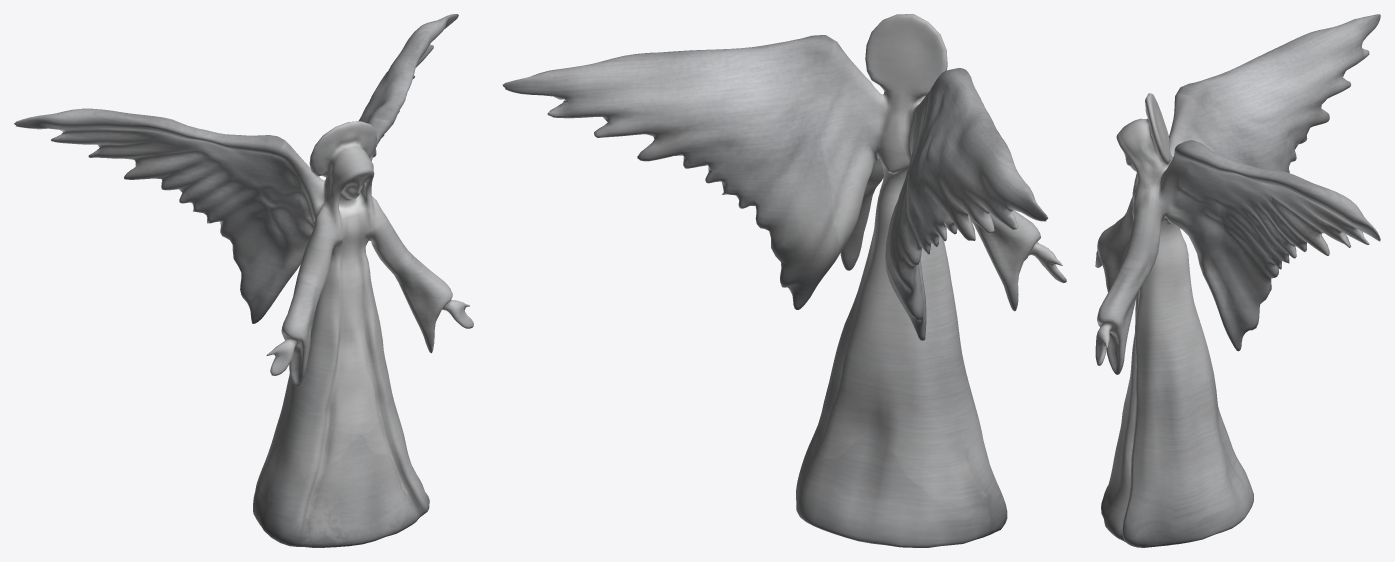
The model's file is angel_statue.glb.
3 views of the same model, side by side, from view 1: azimuth 30°, elevation 25°; view 2: azimuth 150°, elevation 25°; view 3: azimuth 270°, elevation 25° (orthographic). The views are drawn at different scales.
Parts seen in each view (by area): view 1: Group5651_defaultMat_0; view 2: Group5651_defaultMat_0; view 3: Group5651_defaultMat_0.
Boxes of the visible parts, box(x1,y1,x2,y2) form: Group5651_defaultMat_0: box(14, 14, 473, 547); Group5651_defaultMat_0: box(502, 14, 1066, 547); Group5651_defaultMat_0: box(1095, 14, 1380, 547).
Bounding box in the file's own units: 158 × 138 × 85.15.
1 material, 1 textured.
